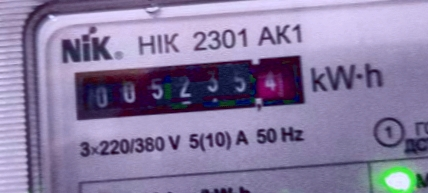0: (93, 80, 110, 106), (121, 77, 137, 102)
2: (176, 70, 193, 97)
3: (203, 65, 221, 91)
4: (261, 62, 280, 92)
5: (231, 63, 248, 92), (149, 72, 164, 98)
screen: (61, 42, 314, 127)
